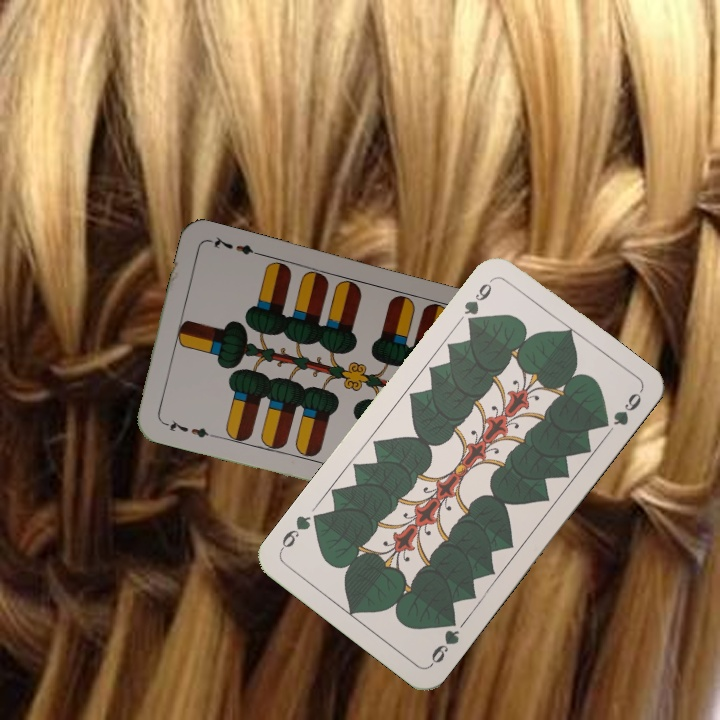E7: (157, 416, 215, 441)
G9: (426, 612, 463, 669), (459, 274, 496, 329)
